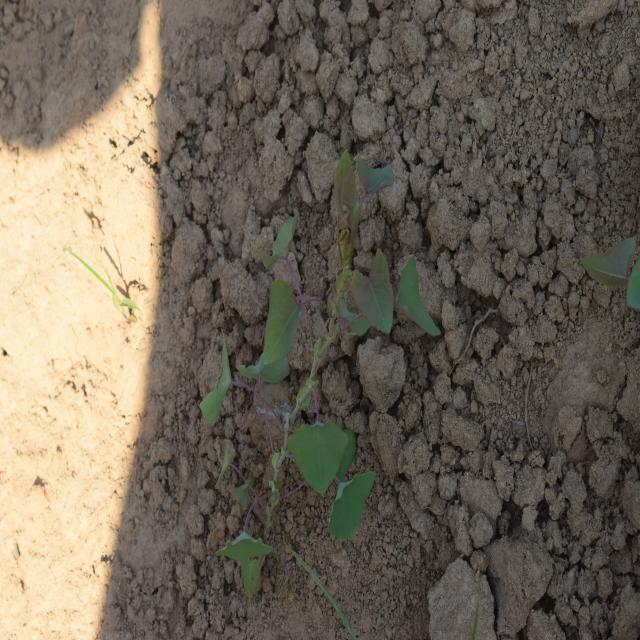Asiatic_Smartweed: (245, 168, 444, 380), (195, 344, 380, 545)
